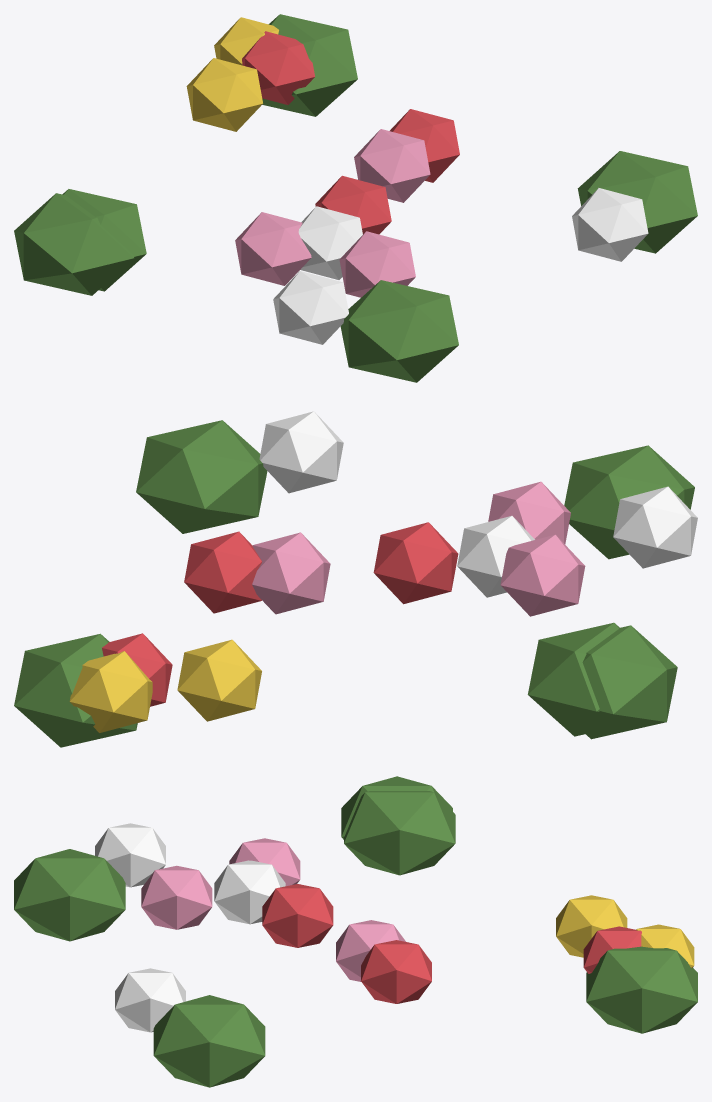
File: Kir_cicek_1_Hafif.fbx
3 renders of one model, top to bottom at view 1: azimuth 30°, elevation 25°; view 2: azimuth 150°, elevation 25°; view 3: azimuth 270°, elevation 25°, orthographic. The views are drawn at different scales.
Parts seen in each view (by area): view 1: Kir_cicek_1_Hafif; view 2: Kir_cicek_1_Hafif; view 3: Kir_cicek_1_Hafif.
Boxes of the visible parts, <box> form: Kir_cicek_1_Hafif: <box>14,14,697,382</box>; Kir_cicek_1_Hafif: <box>14,411,697,747</box>; Kir_cicek_1_Hafif: <box>14,776,697,1087</box>.
Bounding box in the file's own units: 2.11 × 0.2882 × 2.29.
